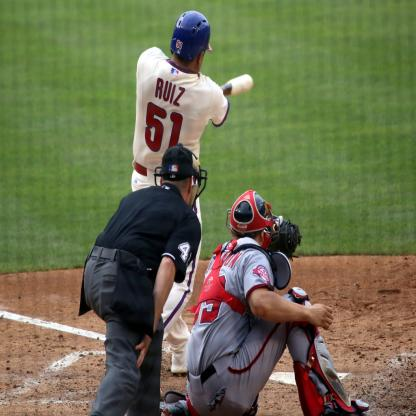Helmet: (156, 138, 206, 215), (166, 7, 209, 62)
